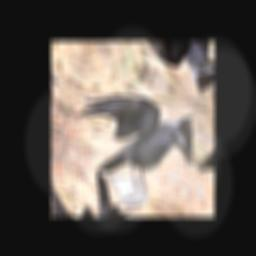Crow: (64, 60, 209, 215)
